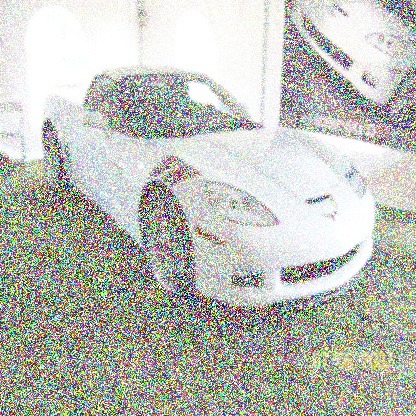Vehicle: (40, 64, 378, 319)
